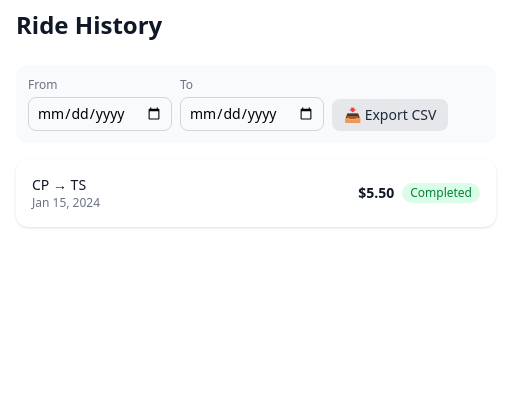
it: RideHistory Page › expands ride card on click
The width and height of the screenshot is (513, 398).
Note: Click to expand
What coordinates should you click on to do the following:
click the text "CP → TS"
I would click on:
 (59, 184)
Its box is x1=32 y1=175 x2=86 y2=194.
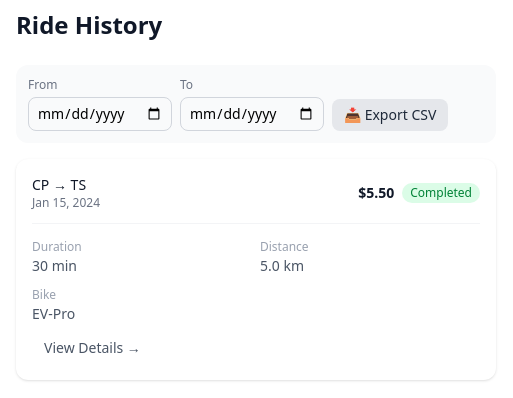
Now the text "Duration" is shown, box x1=32 y1=238 x2=82 y2=255
Now the text "30 min" is shown, box x1=32 y1=256 x2=77 y2=275
Now the text "5.0 km" is shown, box x1=260 y1=256 x2=304 y2=275
